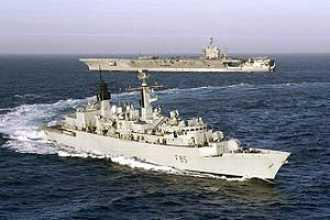warship: (48, 70, 287, 182), (79, 38, 278, 74)
